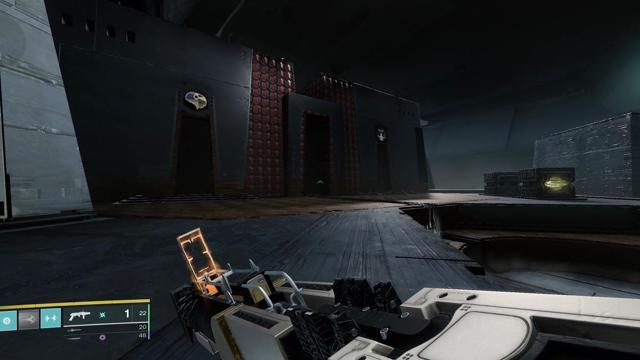brain: (183, 88, 209, 111)
drink: (376, 127, 386, 141)
